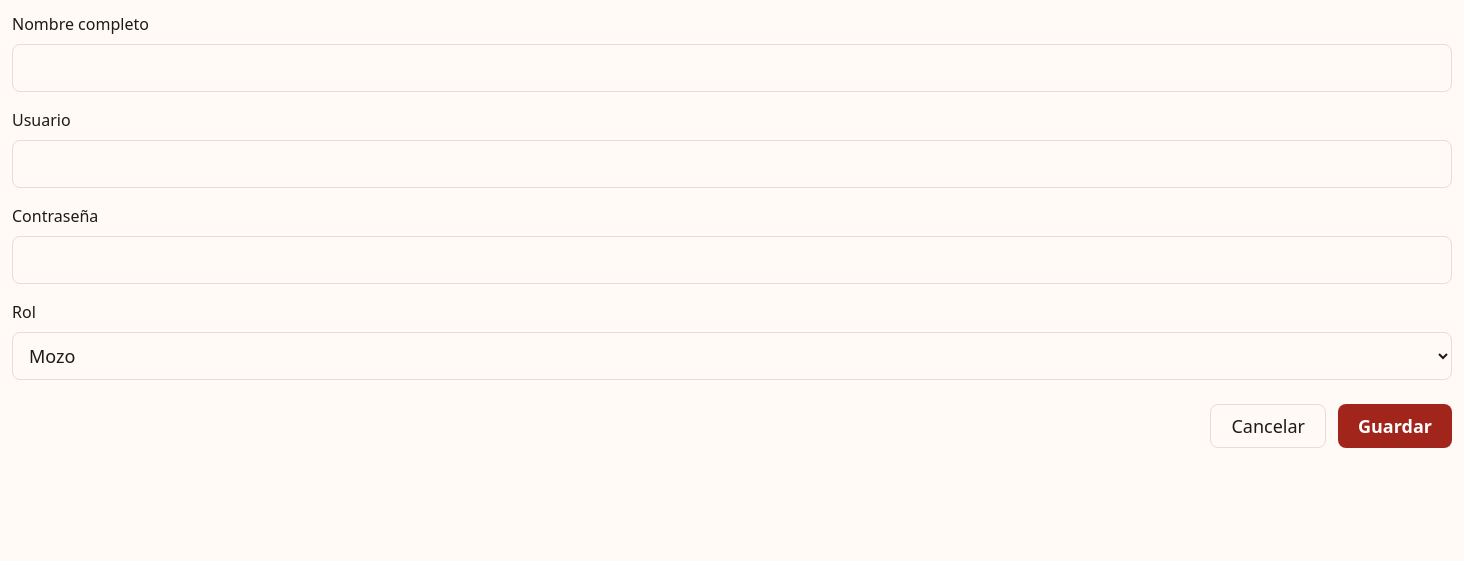
CreateUserForm › muestra los mensajes de validación en español y no envía
Type "A" into the field labelled "Nombre completo" at x=732, y=68, box x1=12 y1=44 x2=1452 y2=92
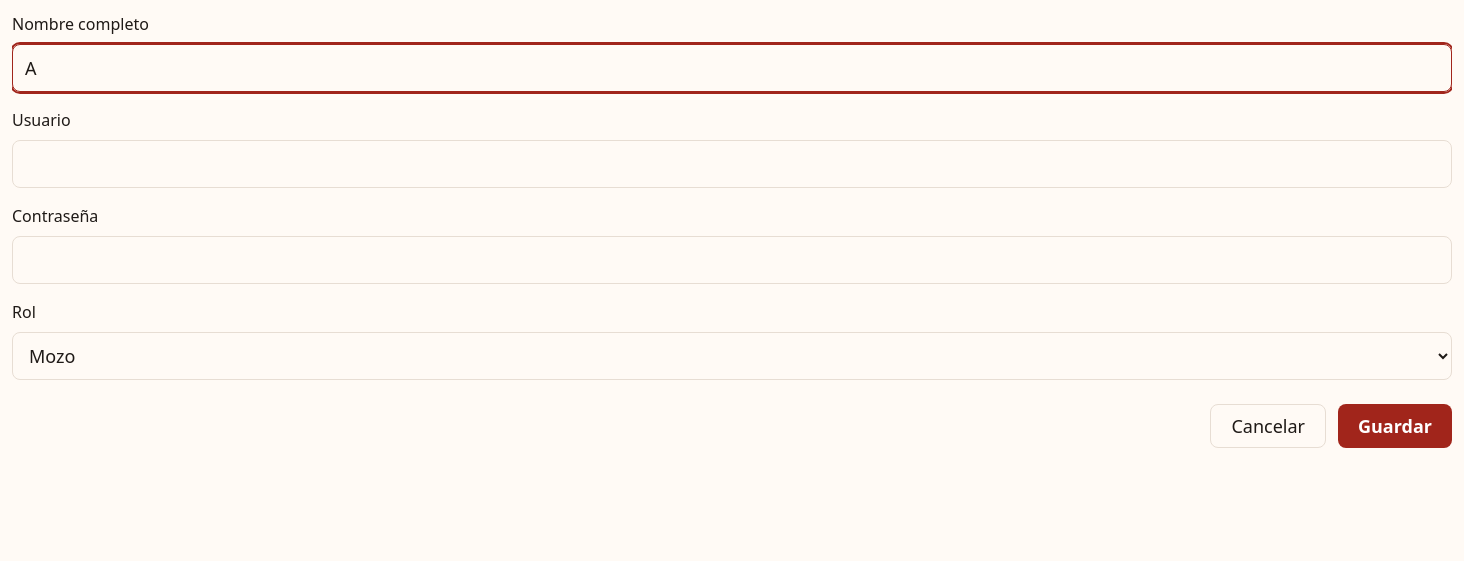
Type "ab" into the field labelled "Usuario" at x=732, y=164, box x1=12 y1=140 x2=1452 y2=188
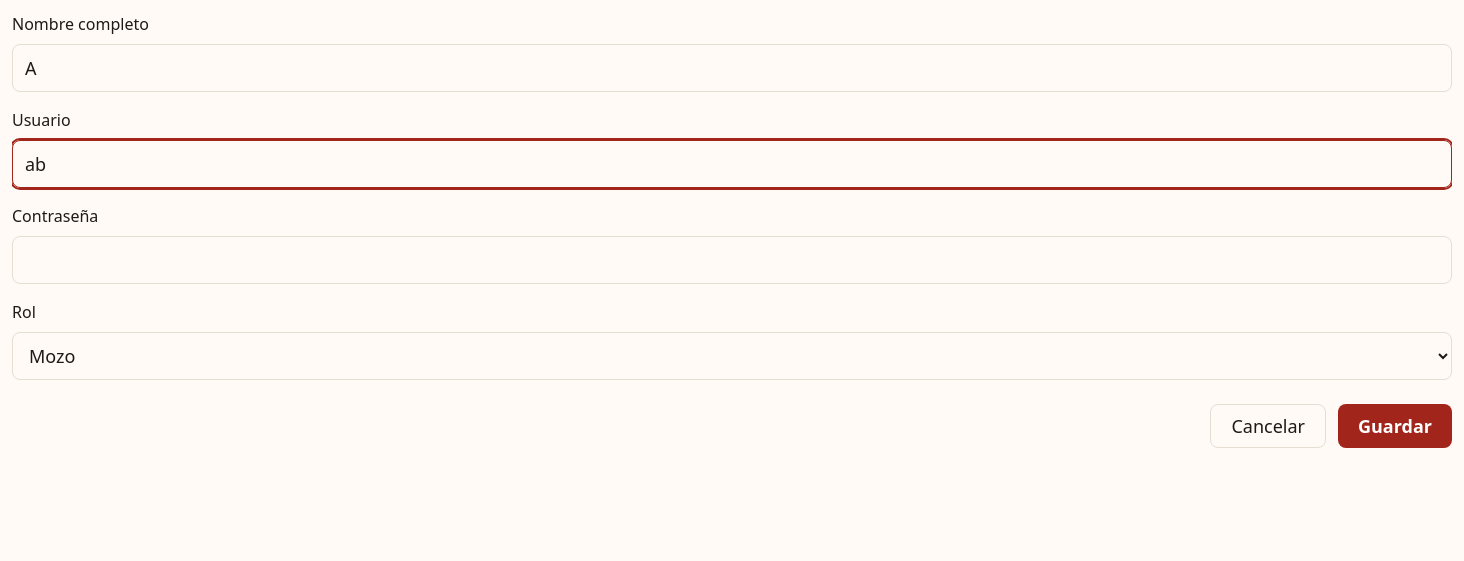
Type "corta" into the password field labelled "Contraseña" at x=732, y=260, box x1=12 y1=236 x2=1452 y2=284
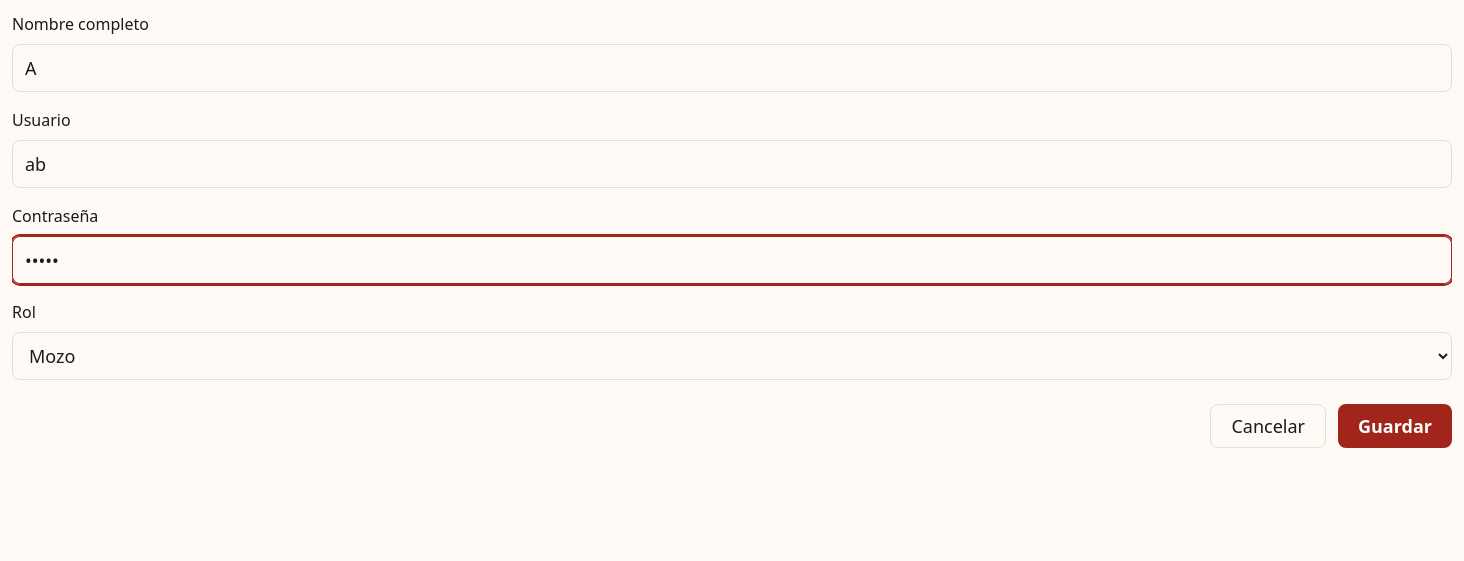
Click the button "Guardar" at x=1395, y=426, box x1=1338 y1=404 x2=1452 y2=448
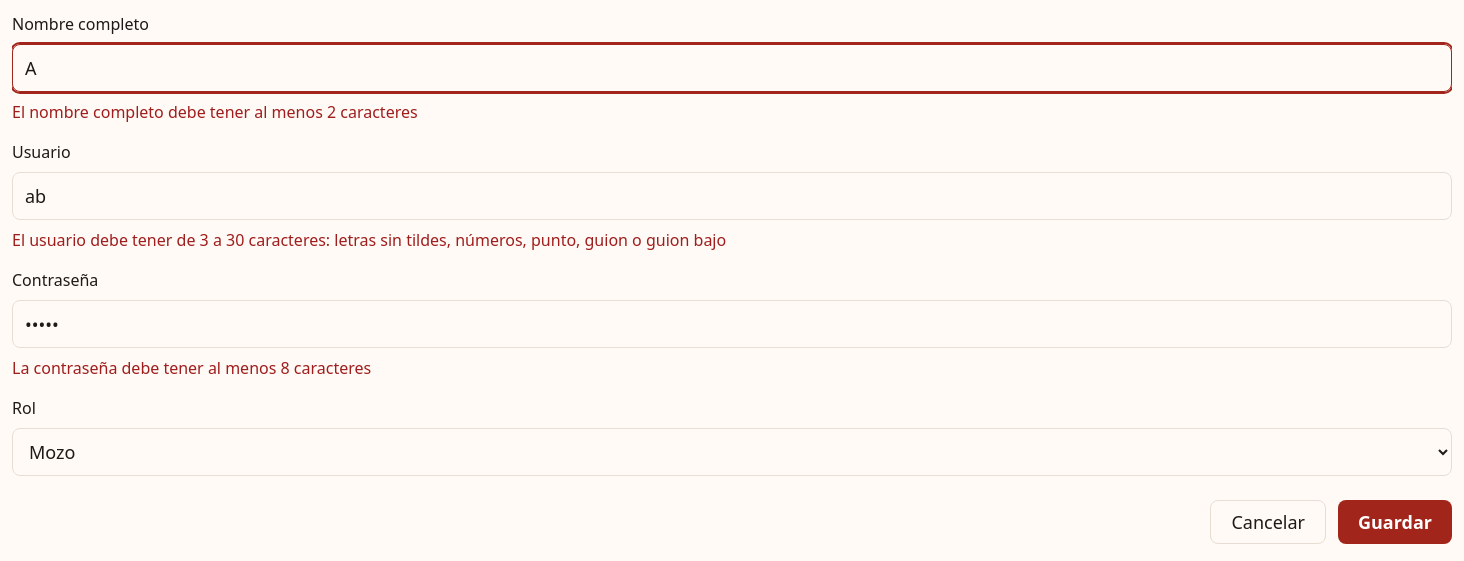
Expected: the text "El nombre completo debe tener al menos 2 caracteres" is shown, x1=12 y1=101 x2=418 y2=123
Expected: the text "El usuario debe tener de 3 a 30 caracteres: letras sin tildes, números, punto, guion o guion bajo" is shown, x1=12 y1=229 x2=726 y2=251
Expected: the text "La contraseña debe tener al menos 8 caracteres" is shown, x1=12 y1=357 x2=371 y2=379
